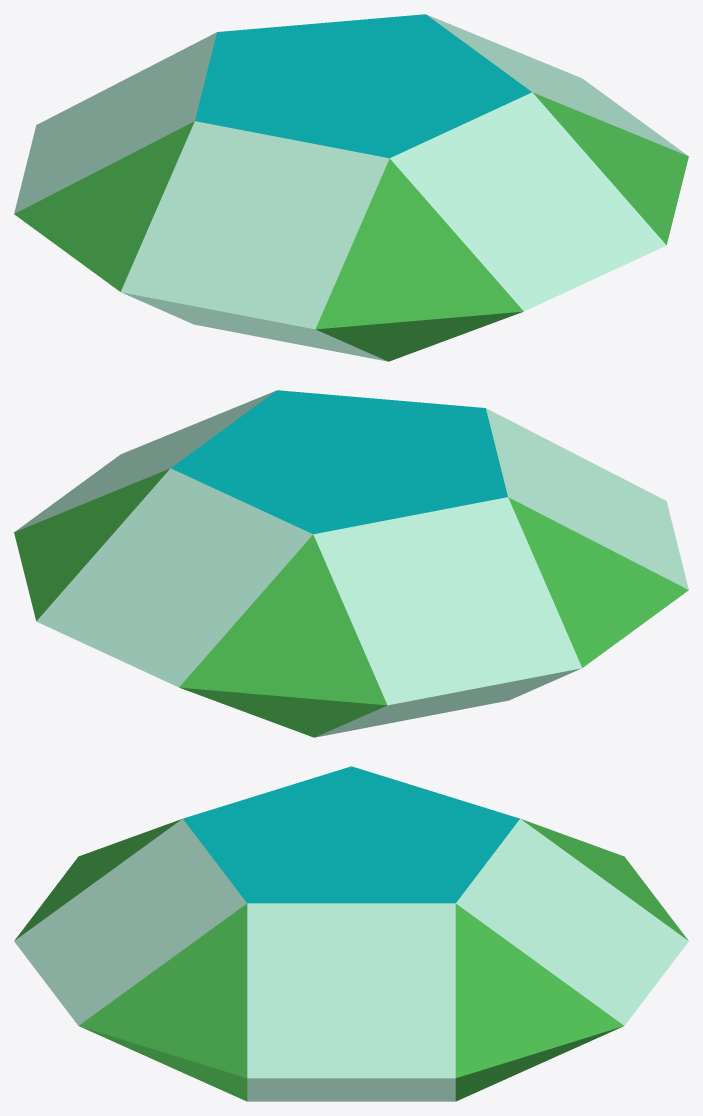
Rendered from J30.OrtobicupulaPentagonal.gltf.
The picture shows the model from 3 angles, top to bottom: view 1: azimuth 30°, elevation 25°; view 2: azimuth 150°, elevation 25°; view 3: azimuth 270°, elevation 25°; orthographic projection. The views are drawn at different scales.
Parts seen in each view (by area): view 1: J30.OrtobicupulaPentagonal; view 2: J30.OrtobicupulaPentagonal; view 3: J30.OrtobicupulaPentagonal.
Boxes of the visible parts, box(x1,y1,x2,y2) form: J30.OrtobicupulaPentagonal: box(14, 14, 688, 361); J30.OrtobicupulaPentagonal: box(14, 390, 688, 737); J30.OrtobicupulaPentagonal: box(14, 766, 688, 1101).
Bounding box in the file's own units: 19.02 × 6.55 × 20.
